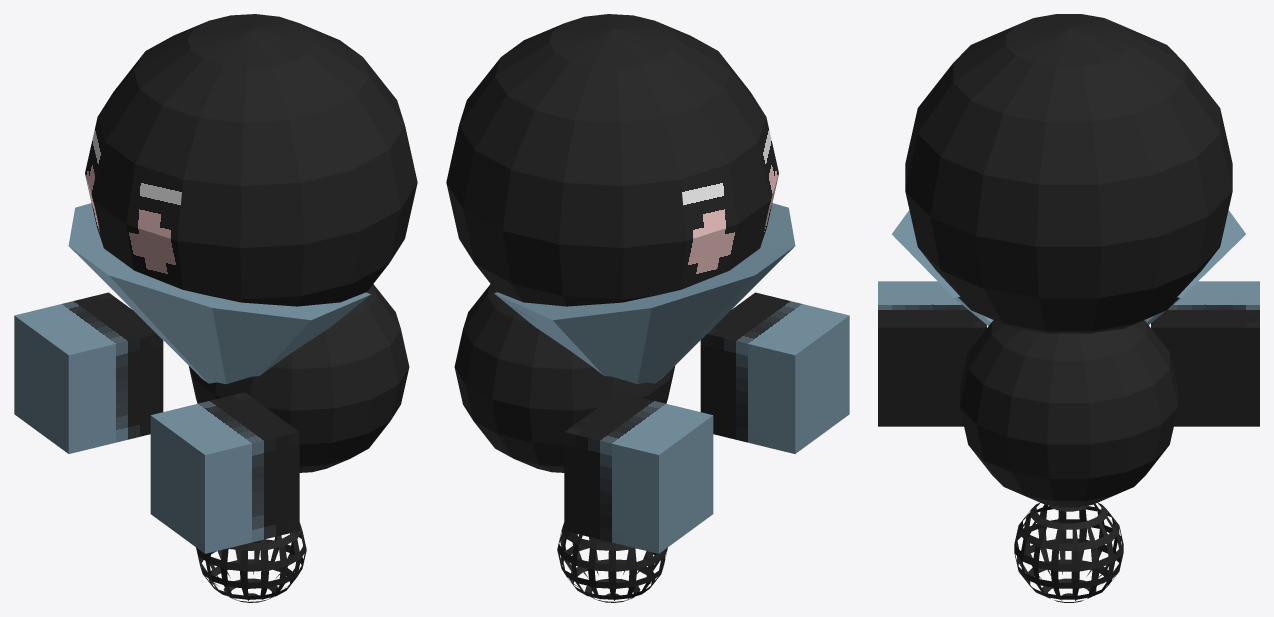
The model's file is Inkage.gltf.
3 views of the same model, side by side, from view 1: azimuth 30°, elevation 25°; view 2: azimuth 150°, elevation 25°; view 3: azimuth 270°, elevation 25° (orthographic).
Visible parts, largest first — view 1: sphere (×3), mesh (×2), cone; view 2: sphere (×3), mesh (×2), cone; view 3: sphere (×3), mesh (×2), cone.
Part boxes in pixels (left/top/right/bottom): sphere (×3): left=85, top=14, right=417, bottom=602; mesh (×2): left=14, top=292, right=299, bottom=553; cone: left=68, top=203, right=370, bottom=384; sphere (×3): left=446, top=14, right=778, bottom=602; mesh (×2): left=564, top=292, right=849, bottom=553; cone: left=494, top=203, right=795, bottom=384; sphere (×3): left=905, top=14, right=1232, bottom=602; mesh (×2): left=878, top=281, right=1259, bottom=426; cone: left=892, top=210, right=1245, bottom=326.
Size of the model in its own units: 0.4029 by 0.7188 by 0.4375.
Materials: 4 (4 with a texture image).
